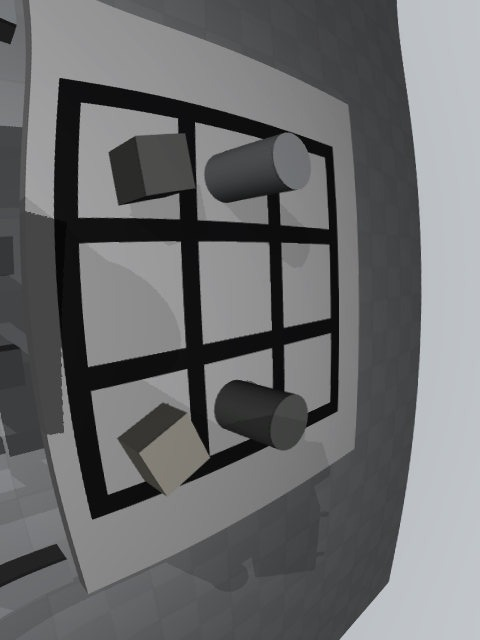can: (205, 132, 311, 203)
cube: (108, 133, 196, 205)
cylinder: (214, 380, 308, 451)
foam: (117, 402, 210, 496)
